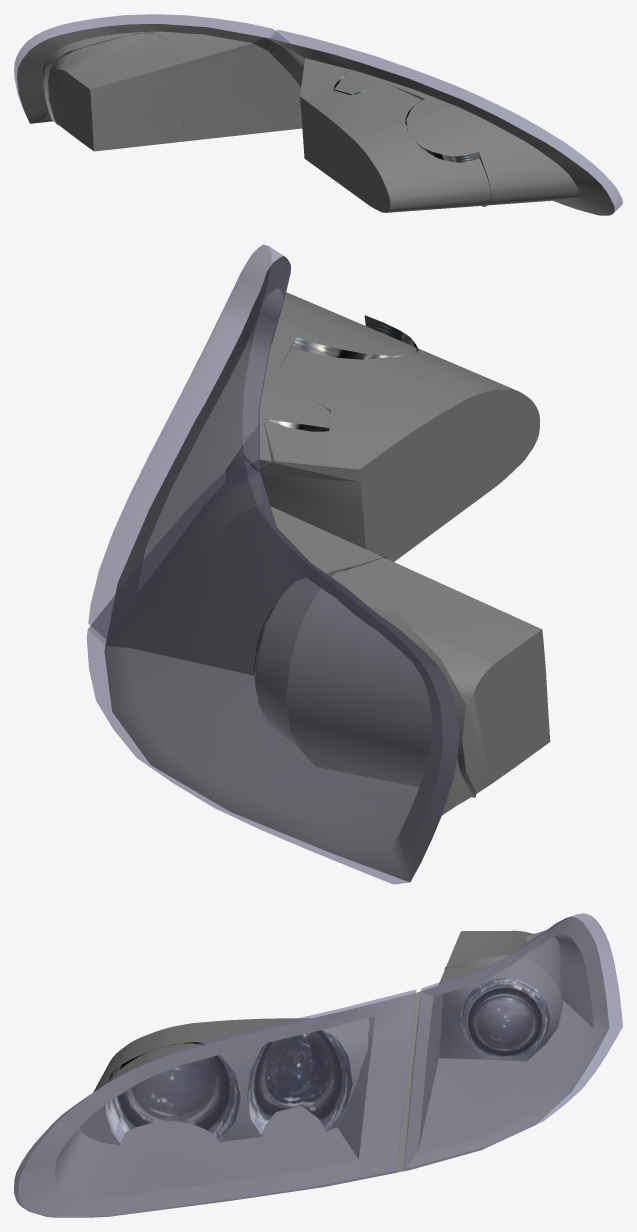
3 renders of one model, top to bottom at view 1: azimuth 30°, elevation 25°; view 2: azimuth 150°, elevation 25°; view 3: azimuth 270°, elevation 25°, orthographic. The views are drawn at different scales.
Visible parts, largest first — view 1: Y210_061B_L_Y210_061B_L_5_N, Y210_061B_L_Y210_061B_L_6_DTaSI, Y210_061B_L_Y210_061B_L_4_DTaSI, Y210_061B_L_Y210_061B_L_3_N; view 2: Y210_061B_L_Y210_061B_L_5_N, Y210_061B_L_Y210_061B_L_4_DTaSI, Y210_061B_L_Y210_061B_L_6_DTaSI, Y210_061B_L_Y210_061B_L_3_N; view 3: Y210_061B_L_Y210_061B_L_5_N, Y210_061B_L_Y210_061B_L_6_DTaSI, Y210_061B_L_Y210_061B_L_4_DTaSI, Y210_061B_L_Y210_061B_L_2_N, Y210_061B_L_Y210_061B_L_3_N, Y210_061B_L_1_N_Y210_061B_L.
Boxes of the visible parts, x1,y1,x2,y2 form: Y210_061B_L_Y210_061B_L_5_N: (17, 24, 614, 215); Y210_061B_L_Y210_061B_L_6_DTaSI: (270, 29, 622, 211); Y210_061B_L_Y210_061B_L_4_DTaSI: (14, 14, 290, 111); Y210_061B_L_Y210_061B_L_3_N: (405, 99, 479, 162); Y210_061B_L_Y210_061B_L_5_N: (104, 256, 550, 881); Y210_061B_L_Y210_061B_L_4_DTaSI: (86, 459, 458, 884); Y210_061B_L_Y210_061B_L_6_DTaSI: (88, 244, 290, 639); Y210_061B_L_Y210_061B_L_3_N: (291, 315, 418, 359); Y210_061B_L_Y210_061B_L_5_N: (14, 916, 609, 1217); Y210_061B_L_Y210_061B_L_6_DTaSI: (14, 989, 416, 1217); Y210_061B_L_Y210_061B_L_4_DTaSI: (403, 913, 622, 1170); Y210_061B_L_Y210_061B_L_2_N: (247, 1030, 352, 1136); Y210_061B_L_Y210_061B_L_3_N: (103, 1042, 240, 1144); Y210_061B_L_1_N_Y210_061B_L: (459, 978, 550, 1060).
Bounding box in the file's own units: 44.34 × 13.9 × 54.94.
